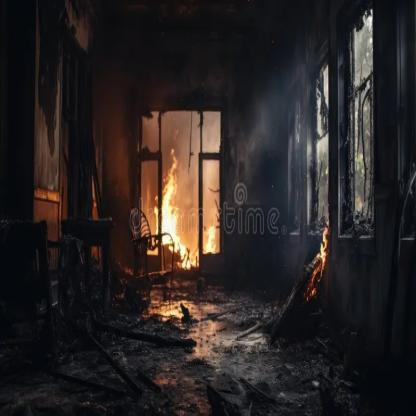fire: (133, 133, 223, 284)
